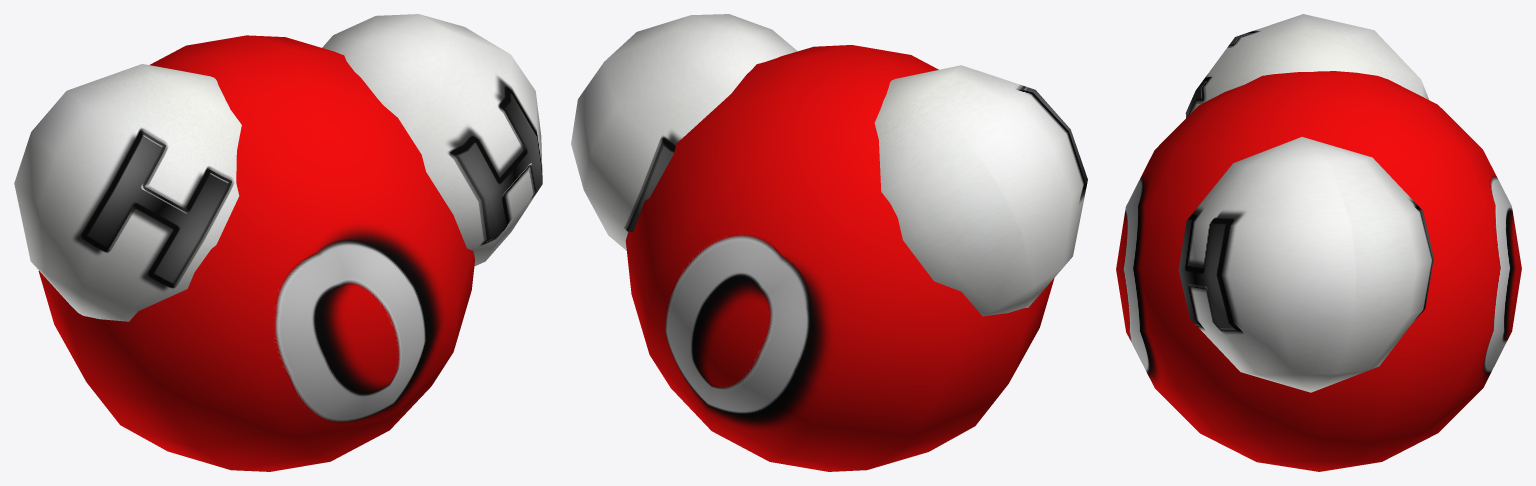
The model's file is Water_Ion.fbx.
3 renders of one model, left to right at view 1: azimuth 30°, elevation 25°; view 2: azimuth 150°, elevation 25°; view 3: azimuth 270°, elevation 25°, orthographic. The views are drawn at different scales.
Parts seen in each view (by area): view 1: Water_Molecule; view 2: Water_Molecule; view 3: Water_Molecule.
Boxes of the visible parts, left/top/right/bottom form: Water_Molecule: left=14, top=14, right=542, bottom=471; Water_Molecule: left=571, top=14, right=1087, bottom=471; Water_Molecule: left=1116, top=14, right=1521, bottom=471.
Bounding box in the file's own units: 0.7559 × 0.5983 × 0.5875.
